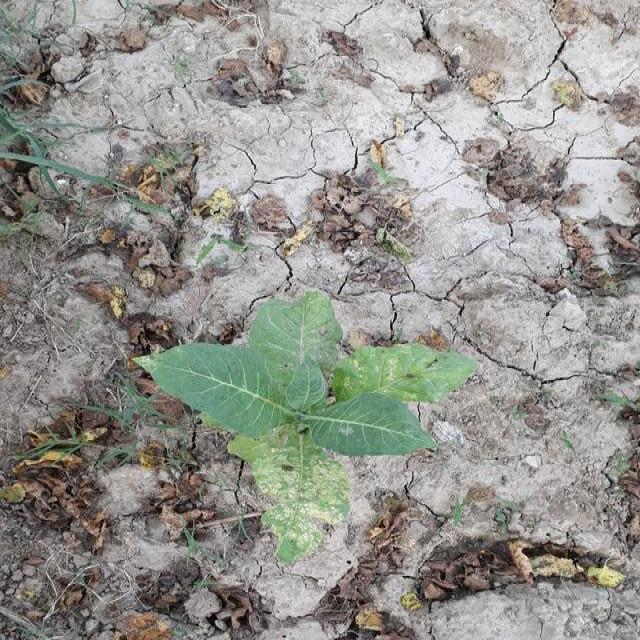crop: (137, 299, 487, 539)
